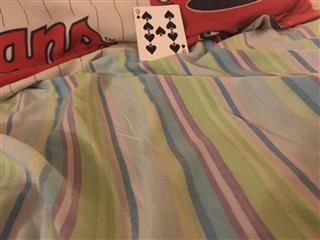NineOfSpades: (132, 4, 189, 60)
